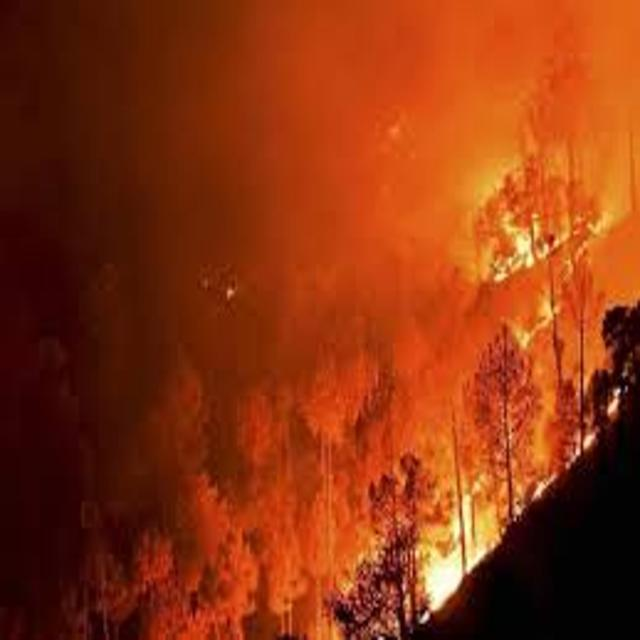Fire: (471, 211, 604, 281), (554, 377, 640, 478), (438, 475, 552, 545), (491, 294, 584, 358), (422, 544, 476, 610)
Smoke: (12, 6, 452, 241)
